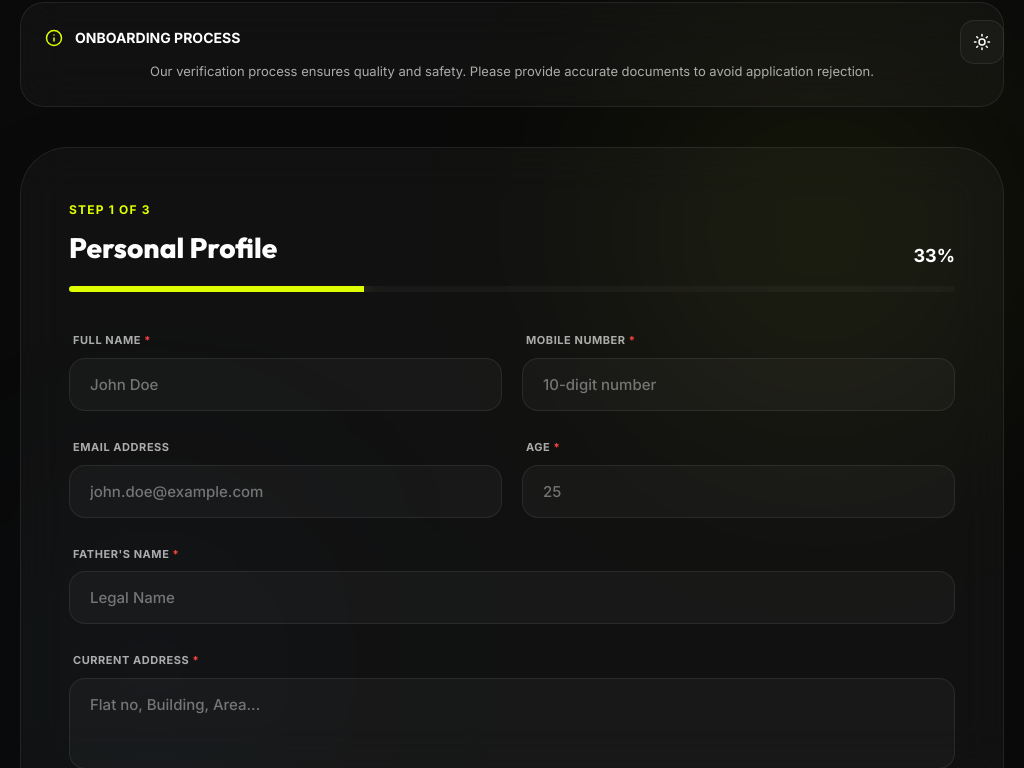
Test case: Crew application — input sanitization (bugs 5, 6, 7) › strips letters and caps Mobile Number at 10 digits
(page scrolled)
Type "98ab76543210999" into the field with placeholder "10-digit number".
click(738, 384); type("98ab76543210999")  # box [522, 358, 955, 411]
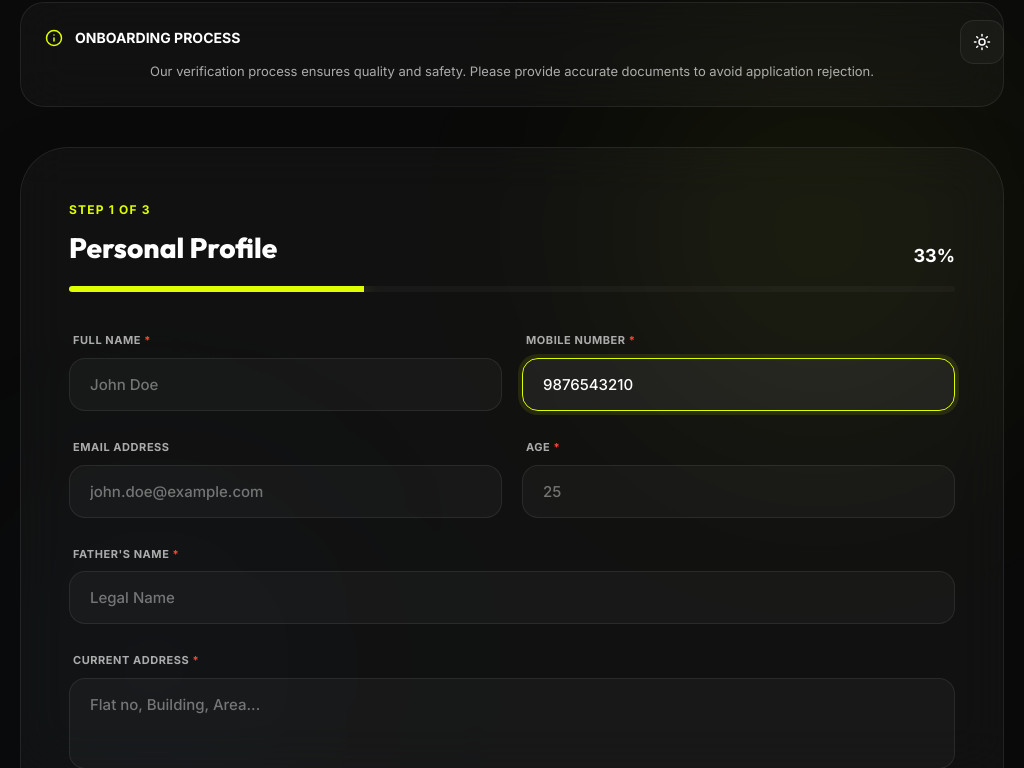
Expected: the field with placeholder "10-digit number" holds "9876543210", [522, 358, 955, 411]
